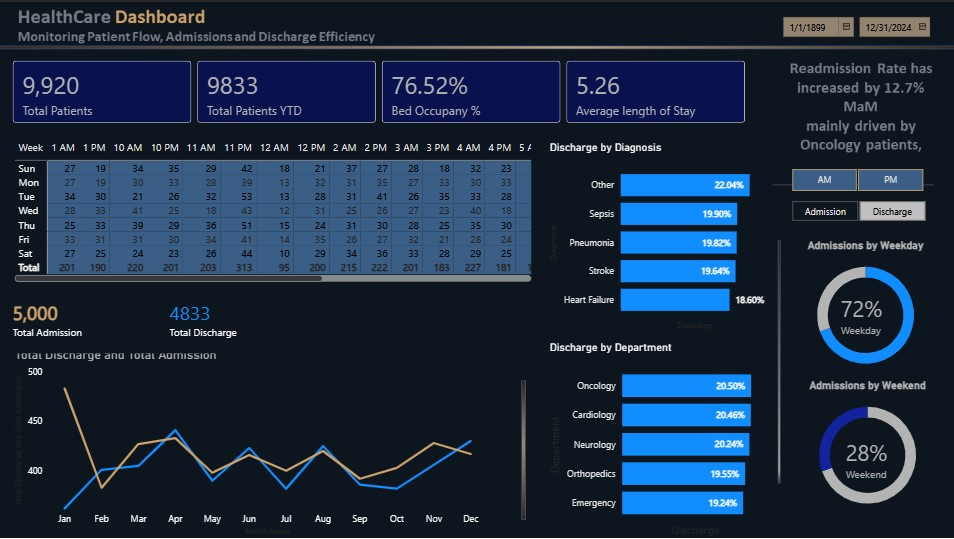

What the dashboard file says about the page in this screenshot:
{"tool":"powerbi","page":{"name":"Page 2","canvas":[1280,720],"ordinal":0},"visuals":[{"type":"cardVisual","fields":{"Data":["Healthcare_Dashboard_Dataset.Total Patients","Healthcare_Dashboard_Dataset.Total Patients YTD","Healthcare_Dashboard_Dataset.Bed Occupany %","Healthcare_Dashboard_Dataset.Average length of Stay"]},"box":[0,62.2,1017.8,117],"z":0},{"type":"donutChart","title":"Admissions by Weekend","fields":{"Category":["Datetable.Week_type"],"Y":["DAX Measures.Total Admission"]},"box":[1062.2,505.2,197,188],"z":1000},{"type":"donutChart","title":"Admissions by Weekday","fields":{"Category":["Datetable.Week_type"],"Y":["DAX Measures.Total Admission"]},"box":[1059.3,317,197,188.1],"z":2000},{"type":"slicer","fields":{"Values":["Change Measure.Change Measure"]},"box":[1034.5,259.6,227.5,40.1],"z":3000},{"type":"pivotTable","fields":{"Values":["DAX Measures.Total Discharge"],"Rows":["Datetable.Week"],"Columns":["Healthcare_Dashboard_Dataset.Time"]},"box":[14.8,179.3,700.7,200],"z":4000},{"type":"clusteredBarChart","fields":{"Y":["DAX Measures.Total Discharge"],"Category":["Healthcare_Dashboard_Dataset.Diagnosis"]},"box":[730.4,186.7,303.7,257.8],"z":5000},{"type":"clusteredBarChart","fields":{"Y":["DAX Measures.Total Discharge"],"Category":["Healthcare_Dashboard_Dataset.Department"]},"box":[730.4,453.3,303.7,266.7],"z":6000},{"type":"lineChart","title":"Total Discharge and Total Admission","fields":{"Y":["DAX Measures.Total Discharge","DAX Measures.Total Admission"],"Category":["Datetable.Month Name"]},"box":[14.8,462.2,640,257.8],"z":7000},{"type":"cardVisual","fields":{"Data":["Healthcare_Dashboard_Dataset.Total Admission","Healthcare_Dashboard_Dataset.Total Discharge"]},"box":[0,373.3,423.7,102.2],"z":8000},{"type":"slicer","fields":{"Values":["Healthcare_Dashboard_Dataset.Moment"]},"box":[1034.5,216.8,224.8,42.8],"z":9000},{"type":"cardVisual","fields":{"Data":["DAX Measures.Weekday"]},"box":[1096.3,360,117,115.6],"z":10000},{"type":"cardVisual","fields":{"Data":["DAX Measures.Weekend"]},"box":[1102.2,552.6,154.1,115.6],"z":10001},{"type":"slicer","fields":{"Values":["Datetable.Date"]},"box":[1034.5,9.4,222.2,41.5],"z":10002}]}

Visuals, with their boxes in screenshot pixels (x1, y1, x2, y2), scaled from the page's 1280x720 canvas onto the 954x539 screenshot:
cardVisual - Healthcare_Dashboard_Dataset.Total Patients x Healthcare_Dashboard_Dataset.Total Patients YTD: select_region(0, 47, 759, 134)
"Admissions by Weekend" donutChart: select_region(792, 378, 938, 519)
"Admissions by Weekday" donutChart: select_region(790, 237, 936, 378)
slicer - Change Measure.Change Measure: select_region(771, 194, 941, 224)
pivotTable - DAX Measures.Total Discharge x Datetable.Week: select_region(11, 134, 533, 284)
clusteredBarChart - DAX Measures.Total Discharge x Healthcare_Dashboard_Dataset.Diagnosis: select_region(544, 140, 771, 333)
clusteredBarChart - DAX Measures.Total Discharge x Healthcare_Dashboard_Dataset.Department: select_region(544, 339, 771, 538)
"Total Discharge and Total Admission" lineChart: select_region(11, 346, 488, 538)
cardVisual - Healthcare_Dashboard_Dataset.Total Admission x Healthcare_Dashboard_Dataset.Total Discharge: select_region(0, 279, 316, 356)
slicer - Healthcare_Dashboard_Dataset.Moment: select_region(771, 162, 939, 194)
cardVisual - DAX Measures.Weekday: select_region(817, 270, 904, 356)
cardVisual - DAX Measures.Weekend: select_region(821, 414, 936, 500)
slicer - Datetable.Date: select_region(771, 7, 937, 38)
